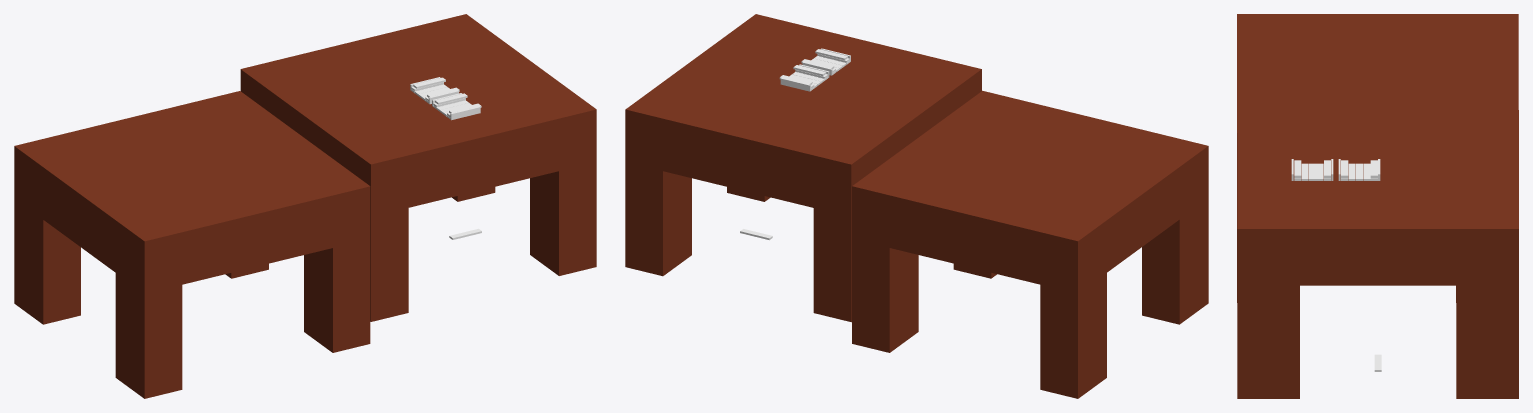
The model's file is keva_double_station_right.dae.
3 renders of one model, left to right at view 1: azimuth 30°, elevation 25°; view 2: azimuth 150°, elevation 25°; view 3: azimuth 270°, elevation 25°, orthographic. The views are drawn at different scales.
Parts seen in each view (by area): view 1: base (×7); view 2: base (×7); view 3: base (×4).
Part boxes in pixels (x1=…): base (×7): x1=14, y1=14, x2=596, y2=398; base (×7): x1=625, y1=14, x2=1208, y2=398; base (×4): x1=1237, y1=14, x2=1518, y2=398.
Size of the model in its own units: 1.8 by 0.9009 by 0.7055.
